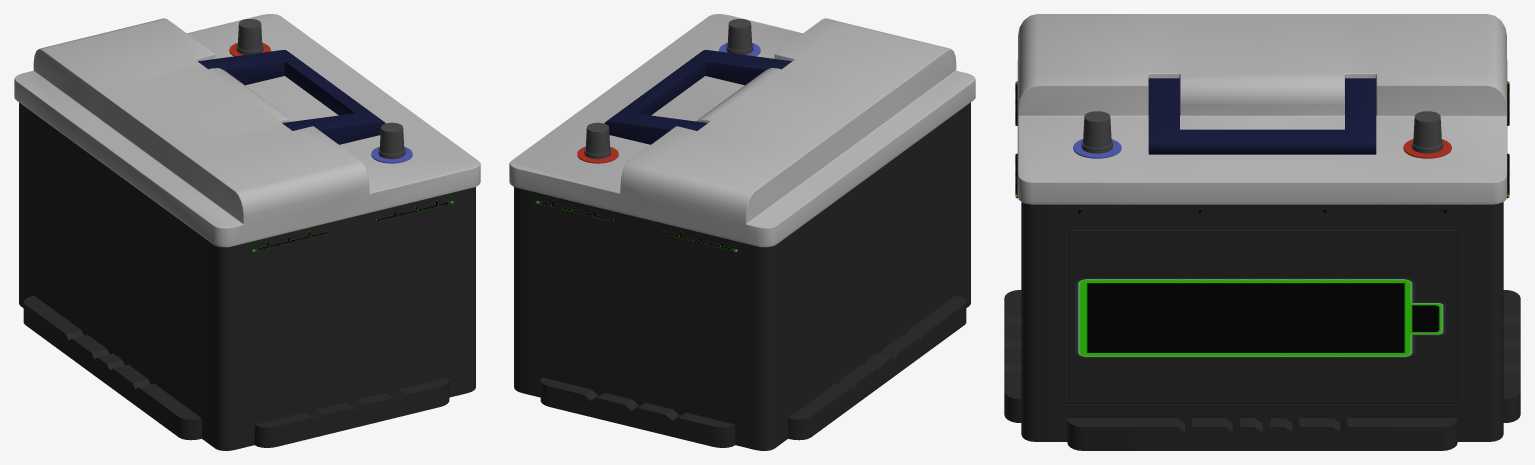
Rendered from 3d-CarBattery.fbx.
3 renders of one model, left to right at view 1: azimuth 30°, elevation 25°; view 2: azimuth 150°, elevation 25°; view 3: azimuth 270°, elevation 25°, orthographic. The views are drawn at different scales.
Visible parts, largest first — view 1: Battery, Cube.001, Cube.002, Circle, Plane.001; view 2: Battery, Cube.001, Cube.002, Circle, Plane.001; view 3: Battery, Cube.001, Battery.001, Cube.002, Circle, Plane.001.
Part boxes in pixels (<box>): Battery: <box>19,102,475,450</box>; Cube.001: <box>14,14,480,247</box>; Cube.002: <box>198,50,385,144</box>; Circle: <box>229,19,412,163</box>; Plane.001: <box>250,200,455,251</box>; Battery: <box>514,102,970,450</box>; Cube.001: <box>509,14,975,247</box>; Cube.002: <box>604,50,791,144</box>; Circle: <box>577,19,760,163</box>; Plane.001: <box>534,200,739,251</box>; Battery: <box>1004,202,1520,450</box>; Cube.001: <box>1017,14,1507,204</box>; Battery.001: <box>1075,277,1446,358</box>; Cube.002: <box>1148,78,1376,154</box>; Circle: <box>1073,111,1451,158</box>; Plane.001: <box>1015,81,1509,198</box>.
Size of the model in its own units: 25.81 by 21.41 by 34.12.
